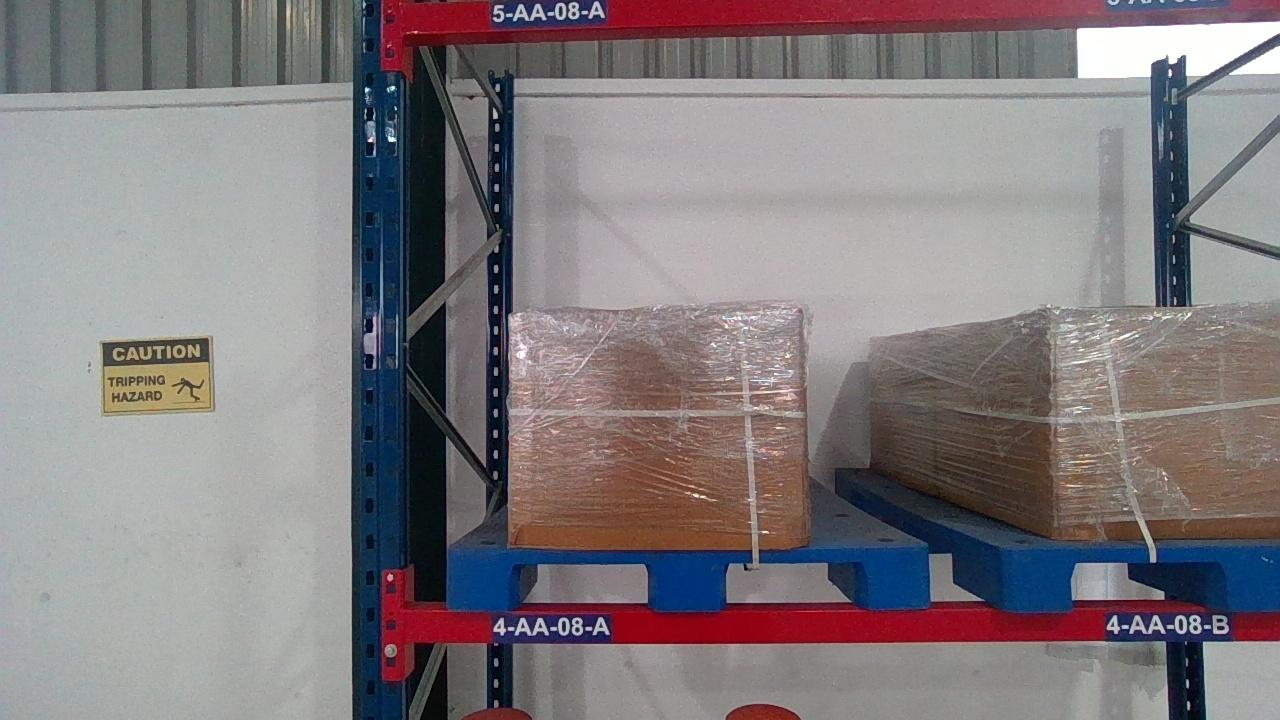h_rack: (405, 606, 1276, 641), (404, 0, 1275, 31)
small_pallet: (443, 547, 932, 606), (1008, 547, 1279, 606)
